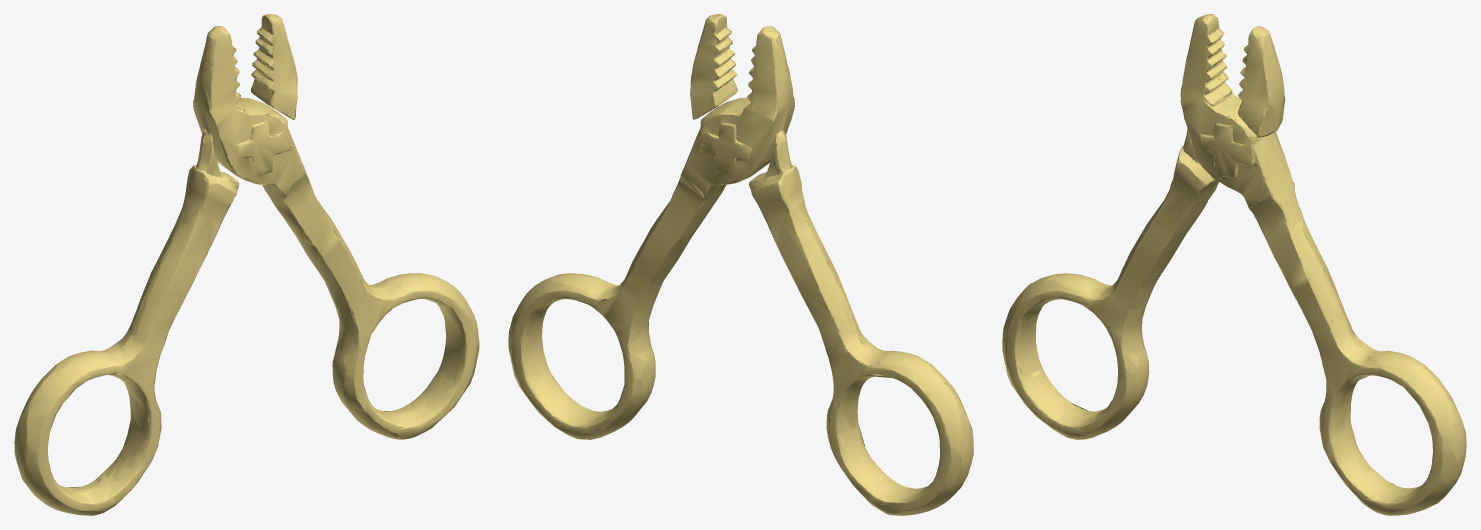
Rendered from equip_dentis_upper_extraction_f.glb.
The picture shows the model from 3 angles, left to right: view 1: azimuth 30°, elevation 25°; view 2: azimuth 150°, elevation 25°; view 3: azimuth 330°, elevation 25°; orthographic projection.
Visible parts, largest first — view 1: world; view 2: world; view 3: world.
Part boxes in pixels (x1,y1,x2,y2): world: (14,14,479,515); world: (508,14,973,515); world: (1002,14,1466,515).
Bounding box in the file's own units: 0.18 × 0.17 × 0.0177.
